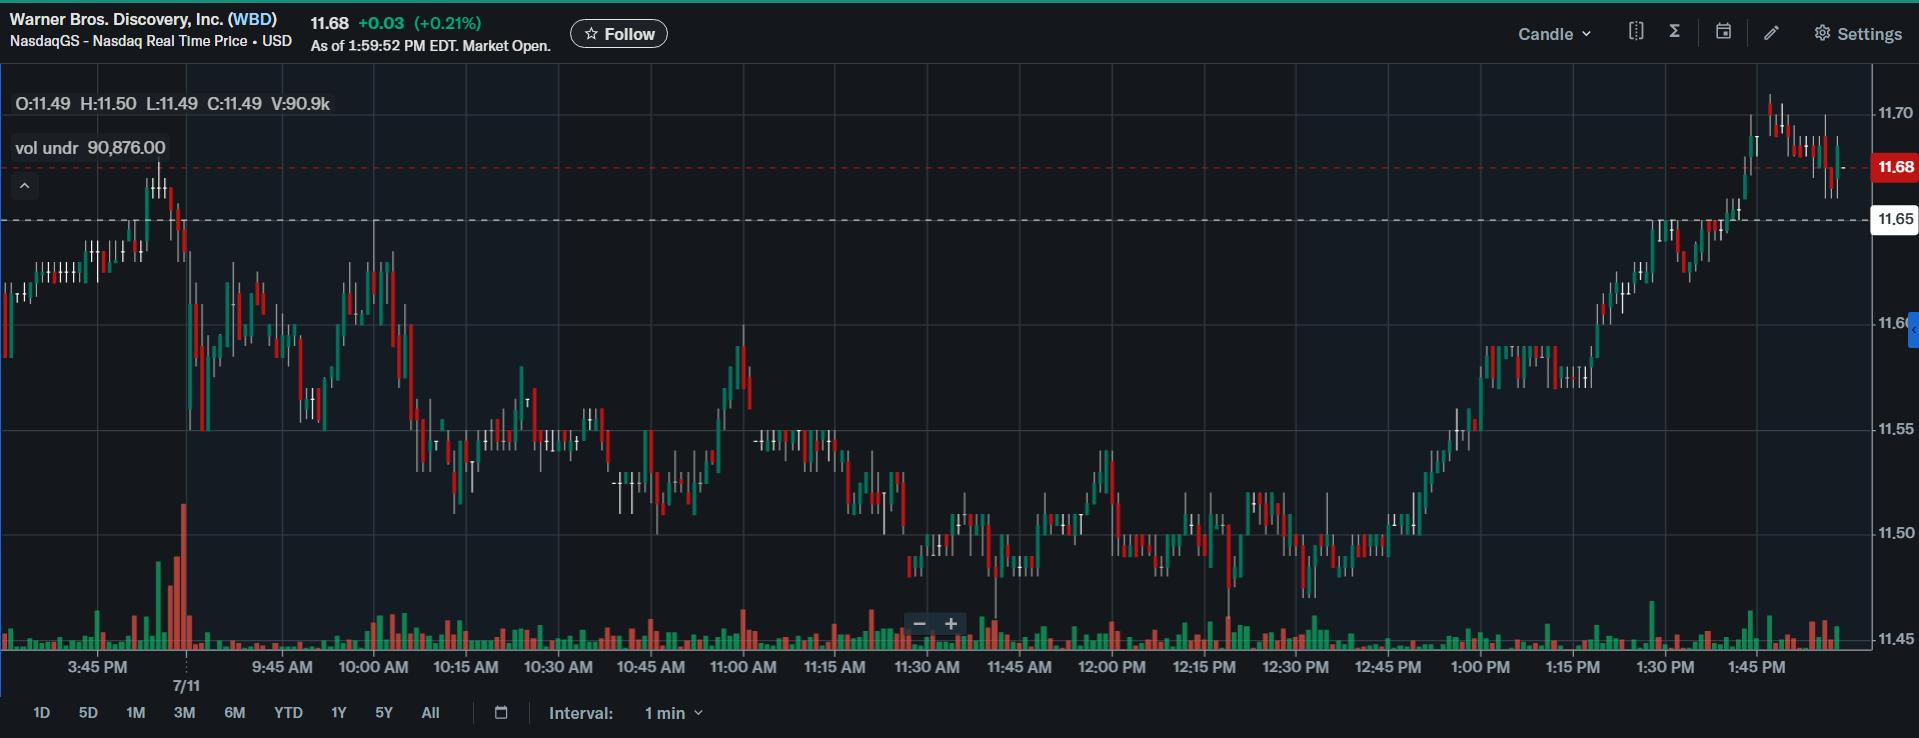Downtrend: (376, 230, 464, 541), (152, 169, 220, 442)
Sideways: (1160, 470, 1312, 609)
Uptrend: (1390, 77, 1775, 581), (678, 305, 740, 550)
